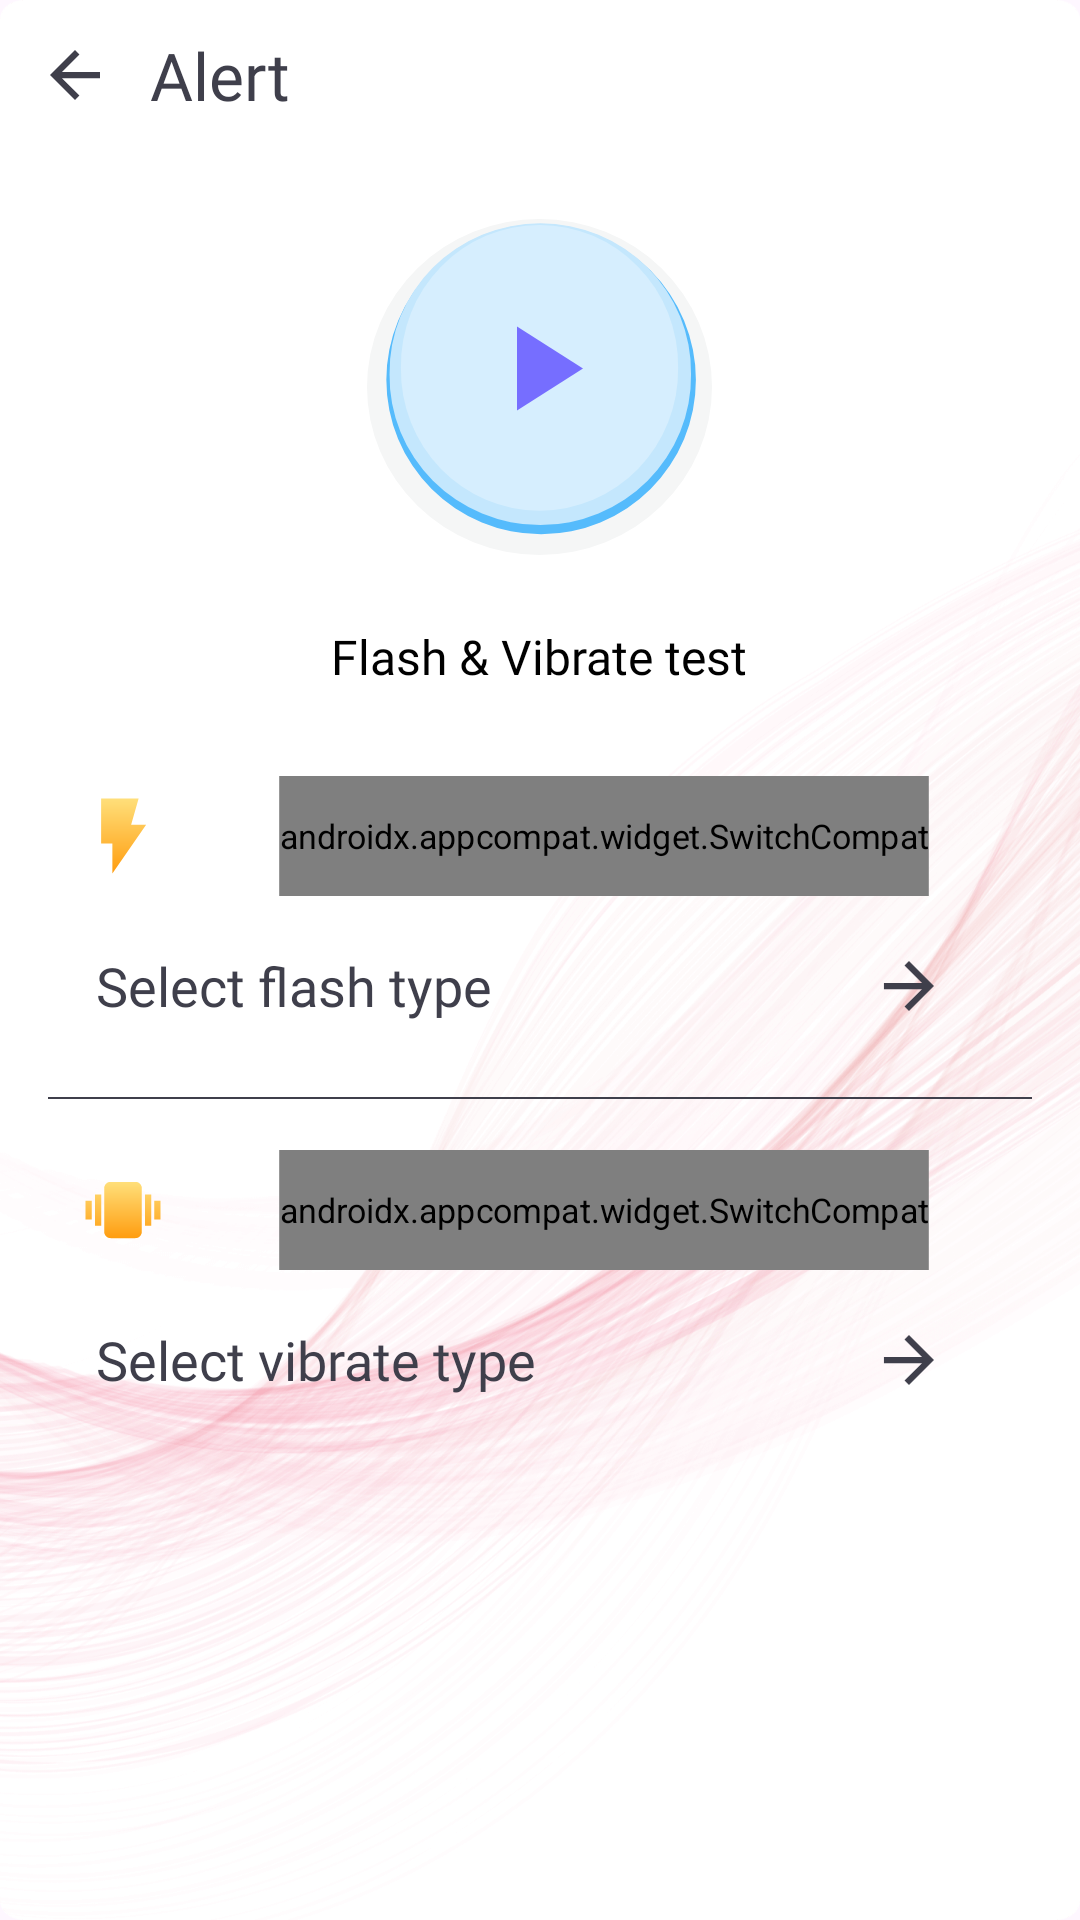

Point at icon controls on the screen. Image size 1080px x 1920px, points as point (x, y).
flash alert: point (123, 835)
